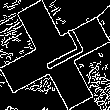L_SW: (25, 30, 85, 80)
